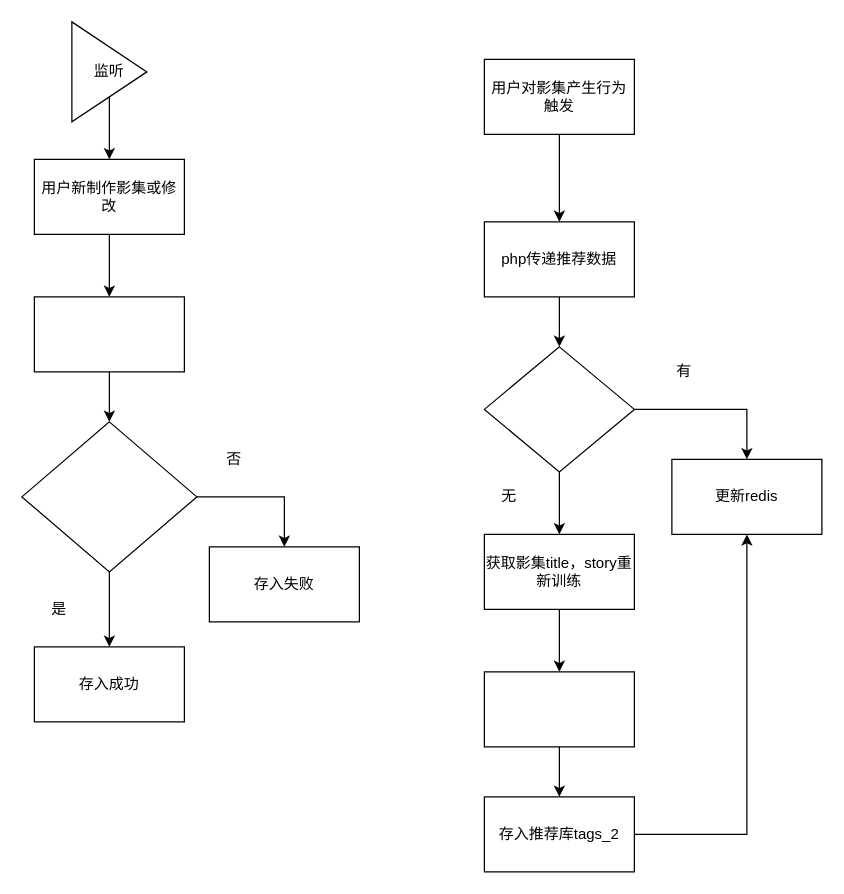
The diagram is 844 pixels wide and 894 high, and some of its shapes have lost their labels. Here are the shapes that lost their labels. From the top down, the centre of each, then its label:
pixel 108 334: 调用update_tags2更新推荐库tags_2
pixel 558 409: tags_2是否有值？
pixel 109 496: 影集是否存在推荐库？
pixel 558 709: 训练结果加入策略结果（php的原创数据以及基于mid打标签）
